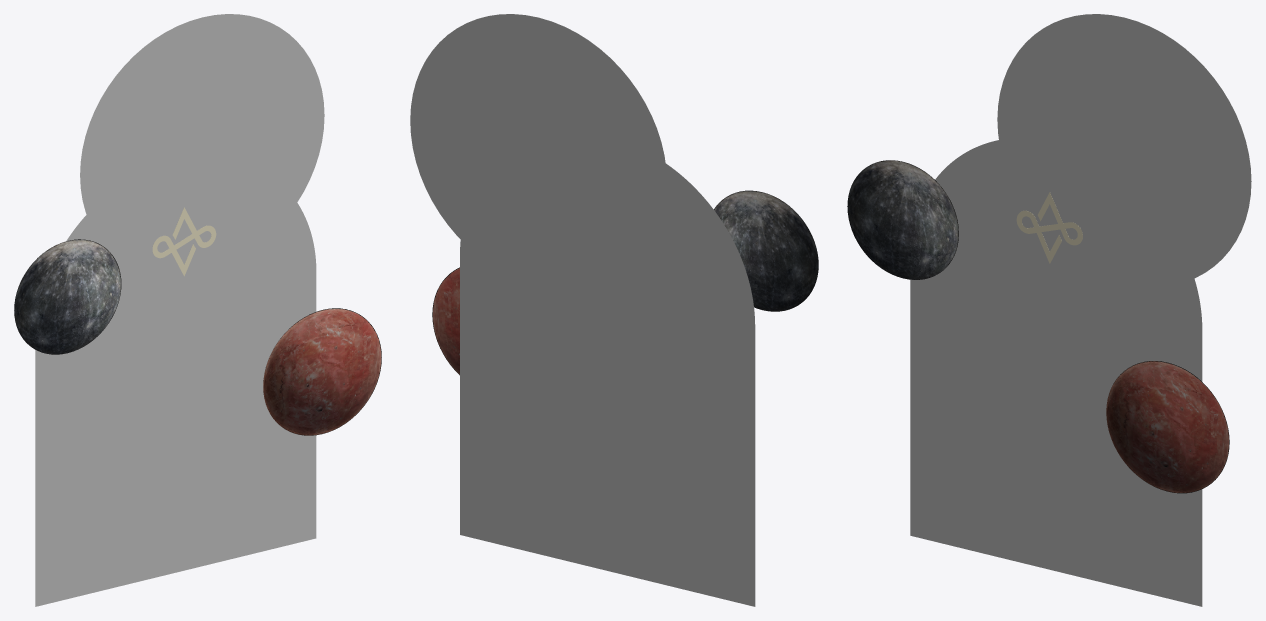
The model's file is scenefinal.gltf.
The picture shows the model from 3 angles, left to right: view 1: azimuth 30°, elevation 25°; view 2: azimuth 150°, elevation 25°; view 3: azimuth 330°, elevation 25°; orthographic projection. The views are drawn at different scales.
Parts seen in each view (by area): view 1: Rectangle, Ellipse 3, Ellipse, Ellipse 2, Spline; view 2: Rectangle, Ellipse 3, Ellipse 2, Ellipse; view 3: Rectangle, Ellipse 3, Ellipse, Ellipse 2, Spline.
Boxes of the visible parts, x1,y1,x2,y2 form: Rectangle: (35,155,316,606); Ellipse 3: (80,14,324,214); Ellipse: (263,308,381,435); Ellipse 2: (14,239,121,354); Spline: (152,207,216,276); Rectangle: (460,163,755,606); Ellipse 3: (410,14,667,289); Ellipse 2: (714,190,818,311); Ellipse: (432,267,459,375); Rectangle: (910,137,1202,606); Ellipse 3: (997,14,1251,278); Ellipse: (1106,361,1229,493); Ellipse 2: (847,160,958,279); Spline: (1016,192,1082,263).
Size of the model in its own units: 43.35 by 59.69 by 8.
